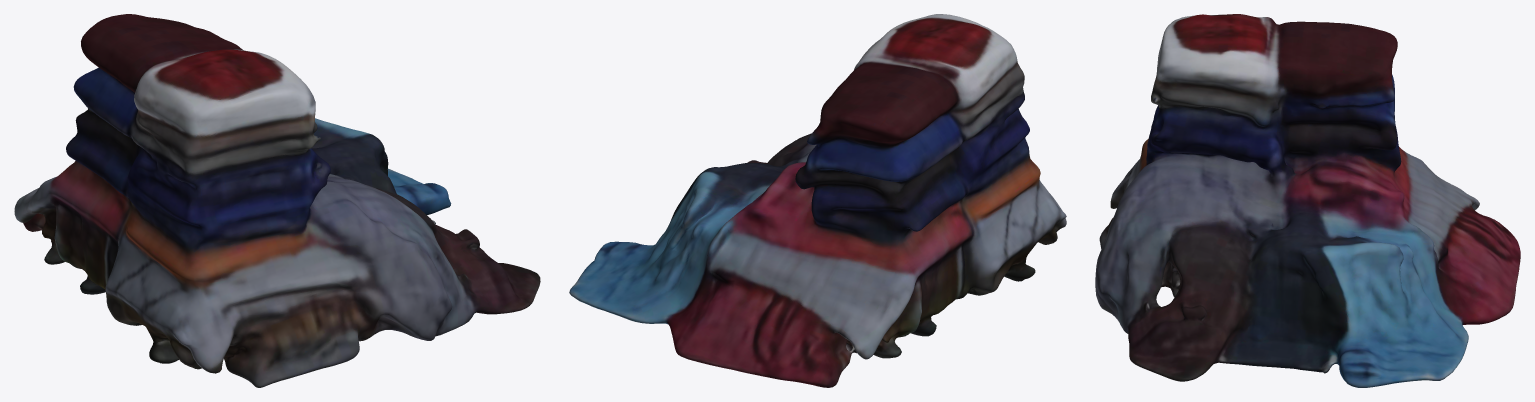
Rendered from d72dfa232817_lots_of_clothes__3d.fbx.
The picture shows the model from 3 angles, left to right: view 1: azimuth 30°, elevation 25°; view 2: azimuth 150°, elevation 25°; view 3: azimuth 270°, elevation 25°; orthographic projection. The views are drawn at different scales.
Parts seen in each view (by area): view 1: high_poly; view 2: high_poly; view 3: high_poly.
Part boxes in pixels (x1,y1,x2,y2): high_poly: (14, 14, 540, 387); high_poly: (569, 14, 1066, 387); high_poly: (1095, 14, 1520, 387).
Size of the model in its own units: 93.23 by 62.41 by 100.
